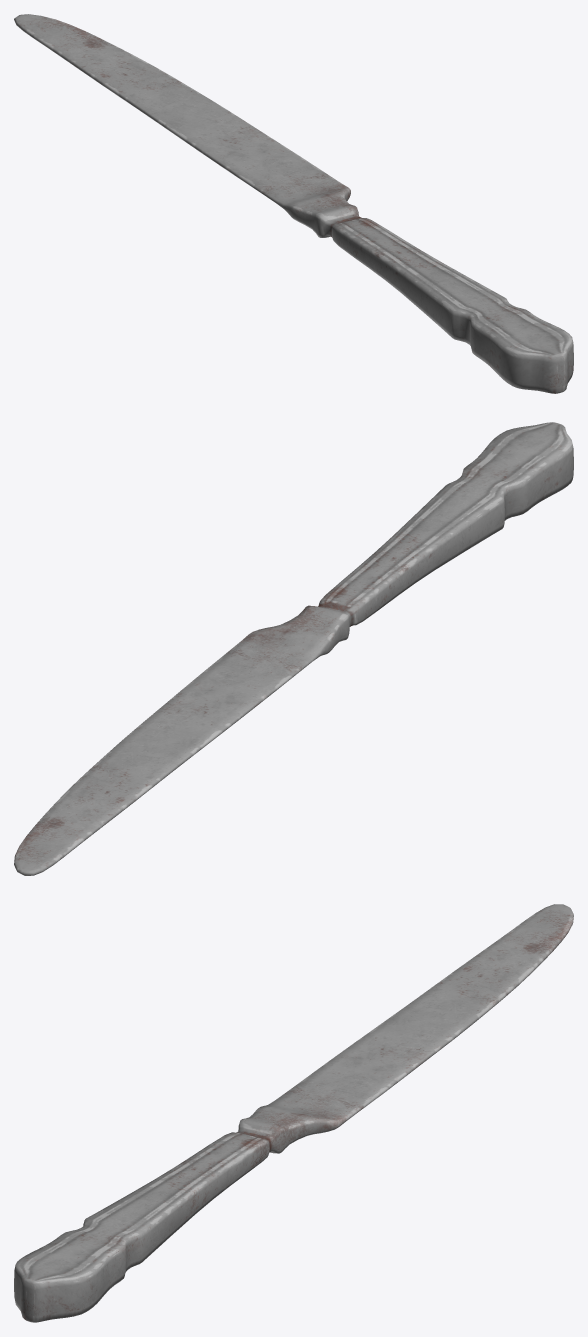
The model's file is knife.fbx.
3 views of the same model, one above another, from view 1: azimuth 30°, elevation 25°; view 2: azimuth 150°, elevation 25°; view 3: azimuth 330°, elevation 25° (orthographic). The views are drawn at different scales.
Parts seen in each view (by area): view 1: Knife1; view 2: Knife1; view 3: Knife1.
Part boxes in pixels (left/top/right/bottom): Knife1: left=14, top=14, right=573, bottom=393; Knife1: left=14, top=422, right=573, bottom=875; Knife1: left=14, top=904, right=573, bottom=1322.
Bounding box in the file's own units: 0.5879 × 0.2985 × 7.26.
1 material, 1 textured.
